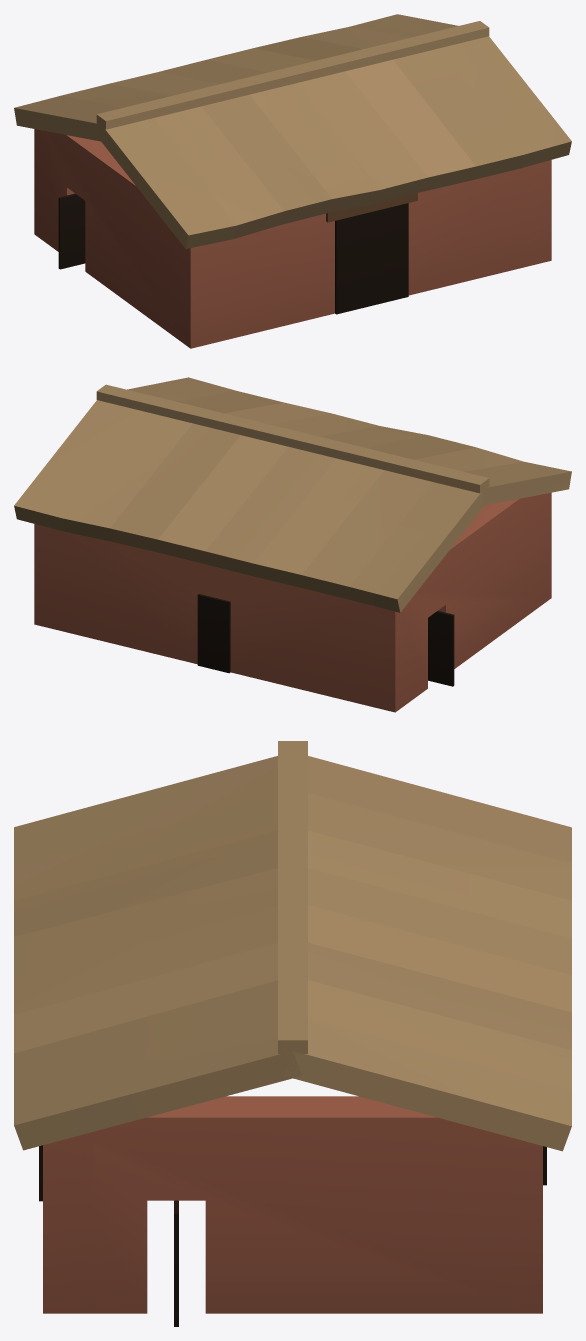
Rendered from republic_magazine_lod0.glb.
The picture shows the model from 3 angles, top to bottom: view 1: azimuth 30°, elevation 25°; view 2: azimuth 150°, elevation 25°; view 3: azimuth 270°, elevation 25°; orthographic projection. The views are drawn at different scales.
Visible parts, largest first — view 1: GEO-Arch_republic_magazine_LOD0; view 2: GEO-Arch_republic_magazine_LOD0; view 3: GEO-Arch_republic_magazine_LOD0.
Part boxes in pixels (x1,y1,x2,y2): GEO-Arch_republic_magazine_LOD0: (14, 14, 571, 348); GEO-Arch_republic_magazine_LOD0: (14, 377, 571, 712); GEO-Arch_republic_magazine_LOD0: (14, 741, 571, 1326).
Size of the model in its own units: 8.74 by 3.74 by 6.7.
